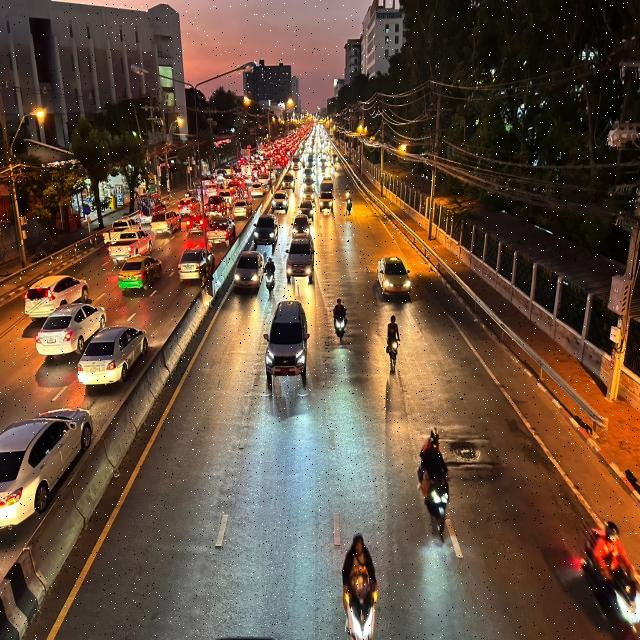bike: (409, 414, 460, 542), (379, 309, 409, 378)
